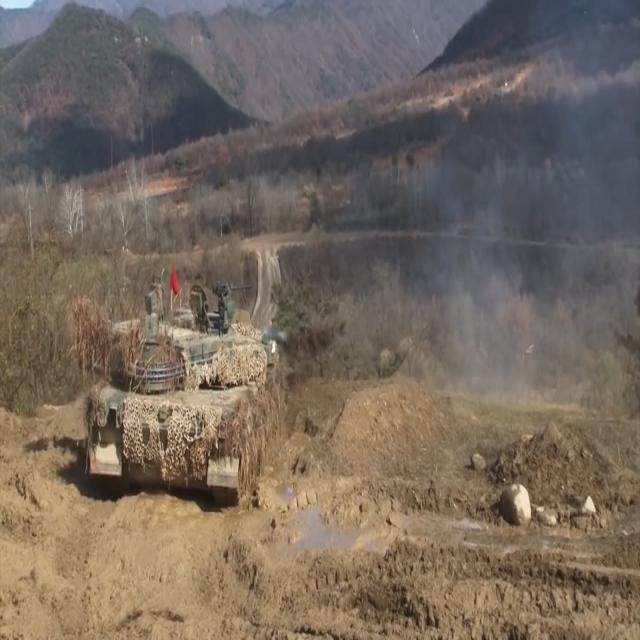korea tank: (68, 282, 332, 516)
